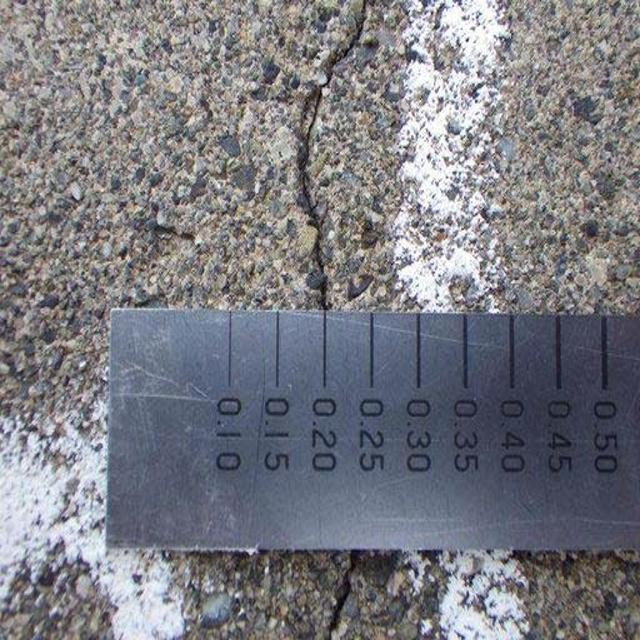crack: (273, 5, 373, 312), (319, 560, 390, 637)
